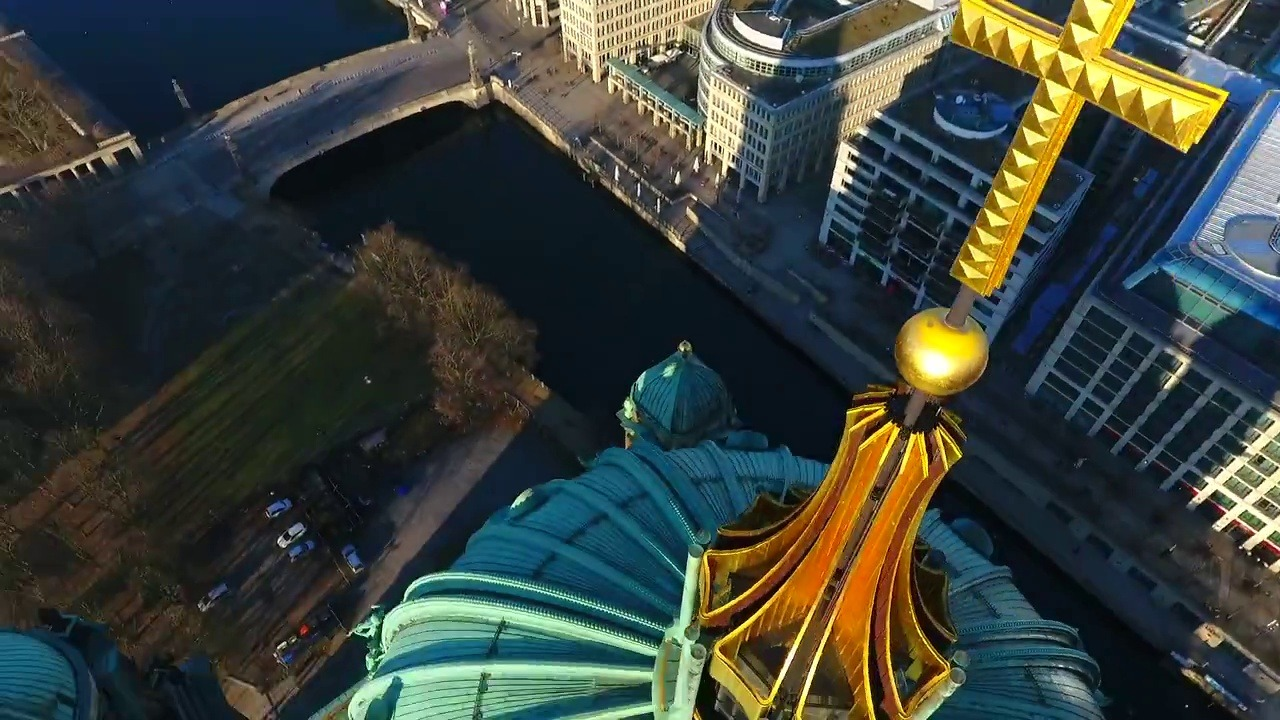car: (272, 514, 311, 552), (340, 540, 372, 579)
